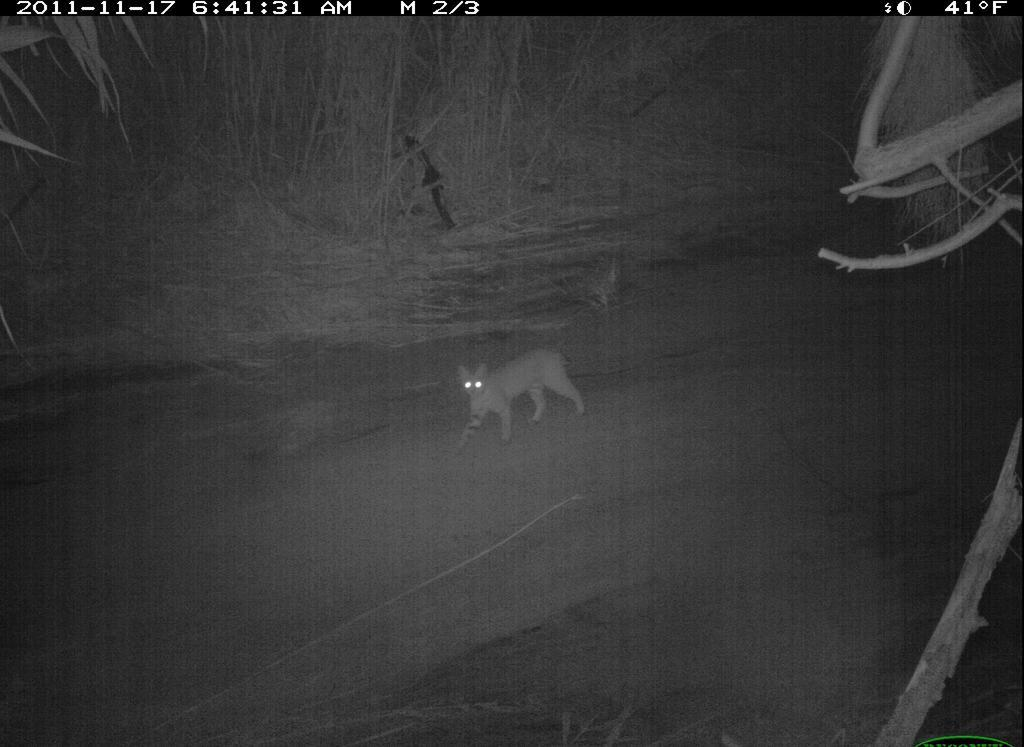bobcat: (305, 260, 660, 564)
